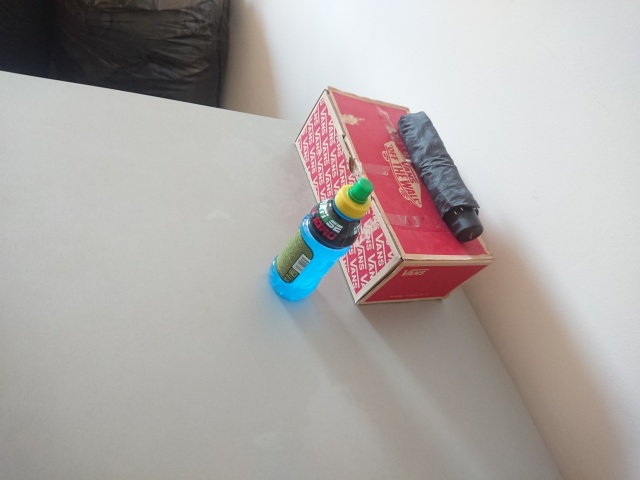Vindi Iso Sport Forest Strawberries 500mL: (266, 176, 375, 302)
